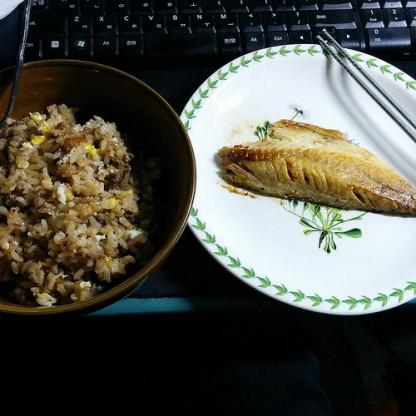Peixe: (251, 113, 416, 212)
